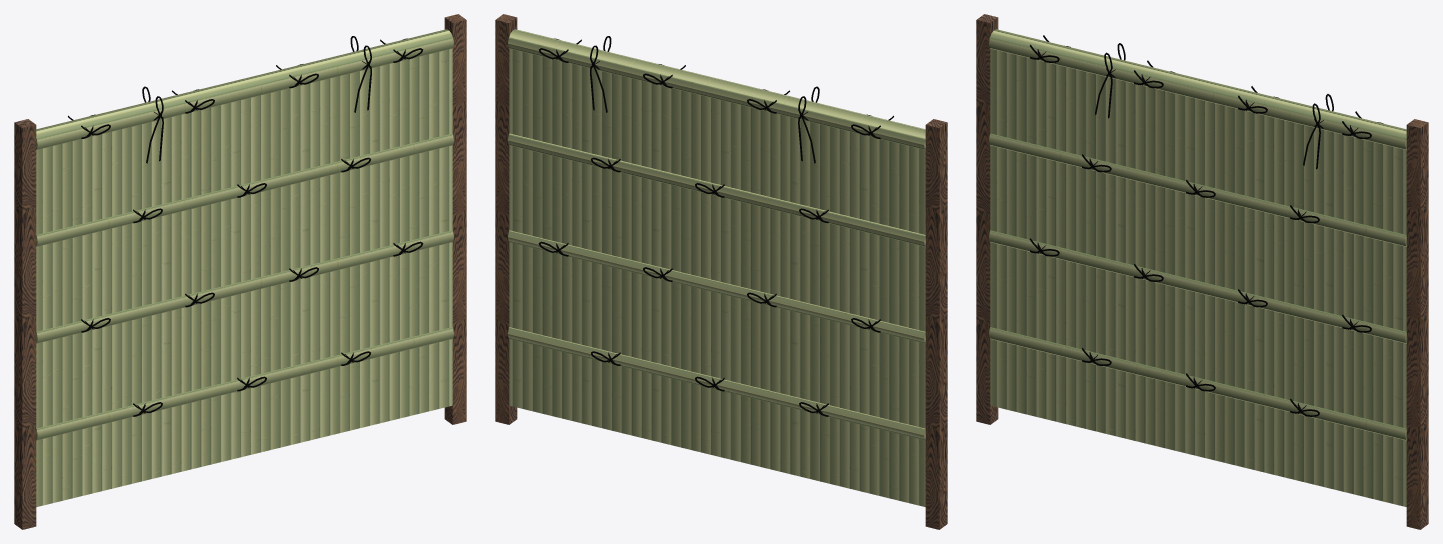
File: 1920-1500_ever1_kenninji-aodake.fbx
3 views of the same model, side by side, from view 1: azimuth 30°, elevation 25°; view 2: azimuth 150°, elevation 25°; view 3: azimuth 330°, elevation 25° (orthographic).
Parts seen in each view (by area): view 1: 1920-1500_ever1aotake; view 2: 1920-1500_ever1aotake; view 3: 1920-1500_ever1aotake.
Part boxes in pixels (x1,y1,x2,y2): 1920-1500_ever1aotake: [14, 14, 466, 529]; 1920-1500_ever1aotake: [495, 14, 947, 529]; 1920-1500_ever1aotake: [976, 14, 1428, 529].
Size of the model in its own units: 192 by 167 by 10.3.
Materials: 5 (4 with a texture image).
